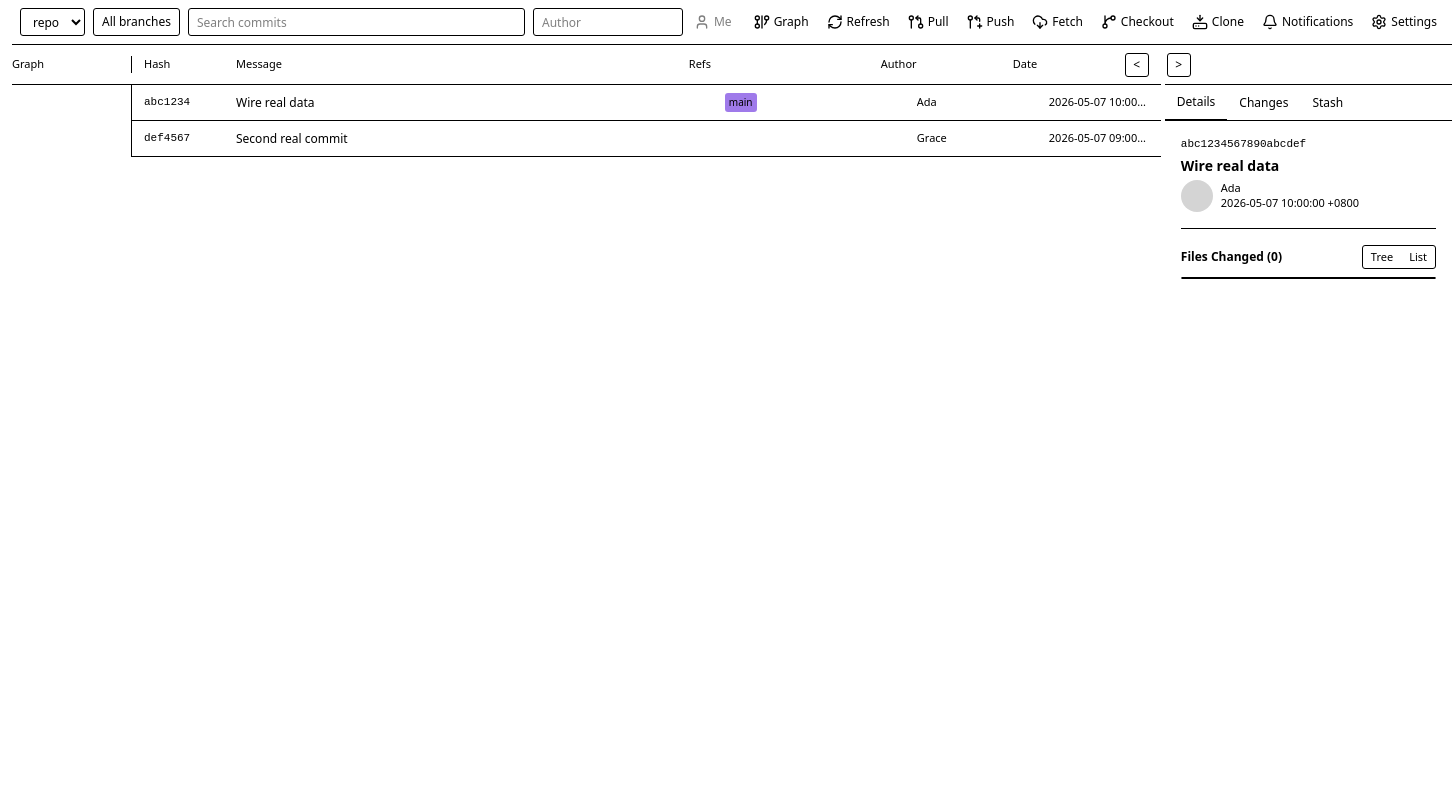
Test case: App › keeps stale commit message generation errors from replacing the current notification
Click the tab "Changes" at [1264, 102], box [1227,85,1300,120]
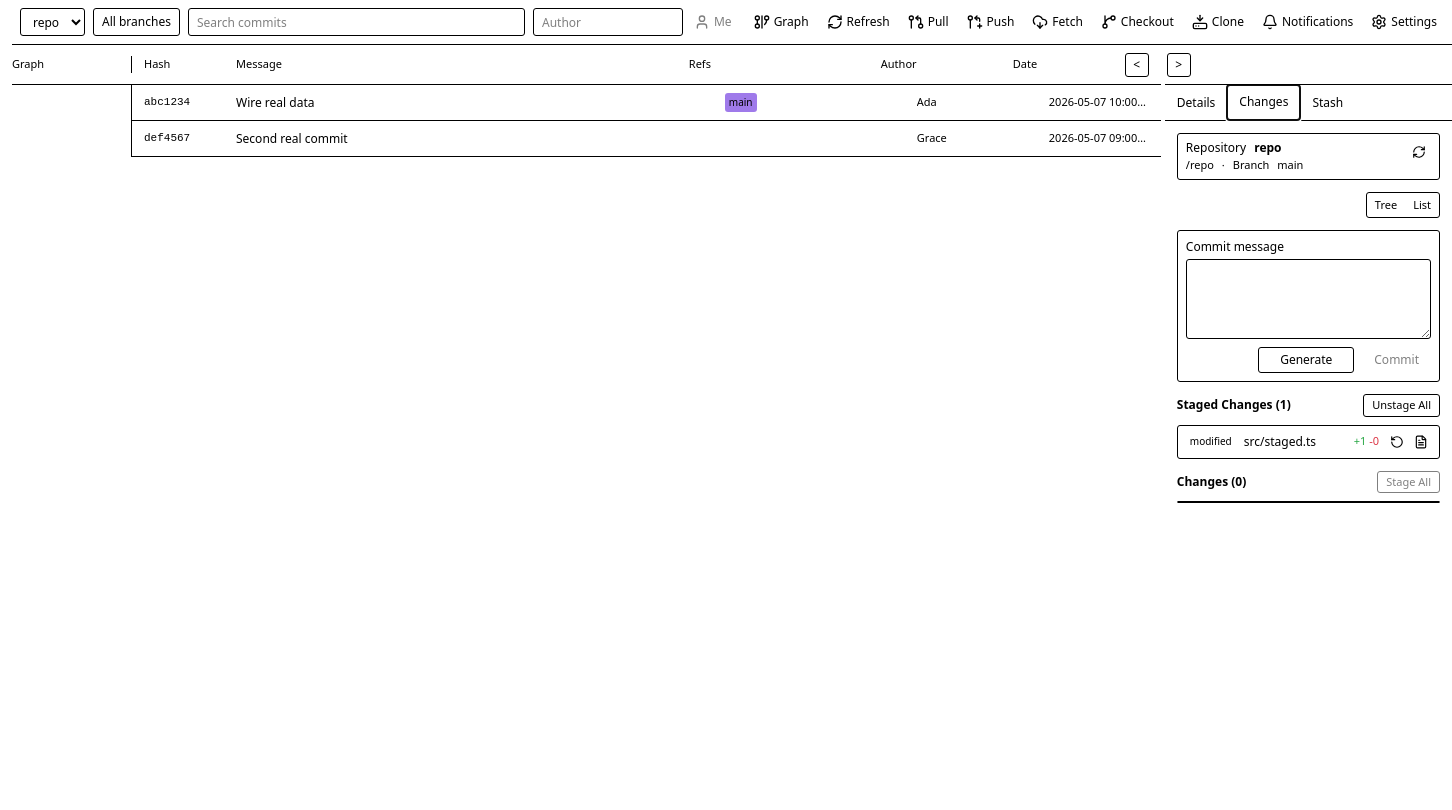
Click the button "Generate" at [1306, 360], box [1258,347,1354,373]
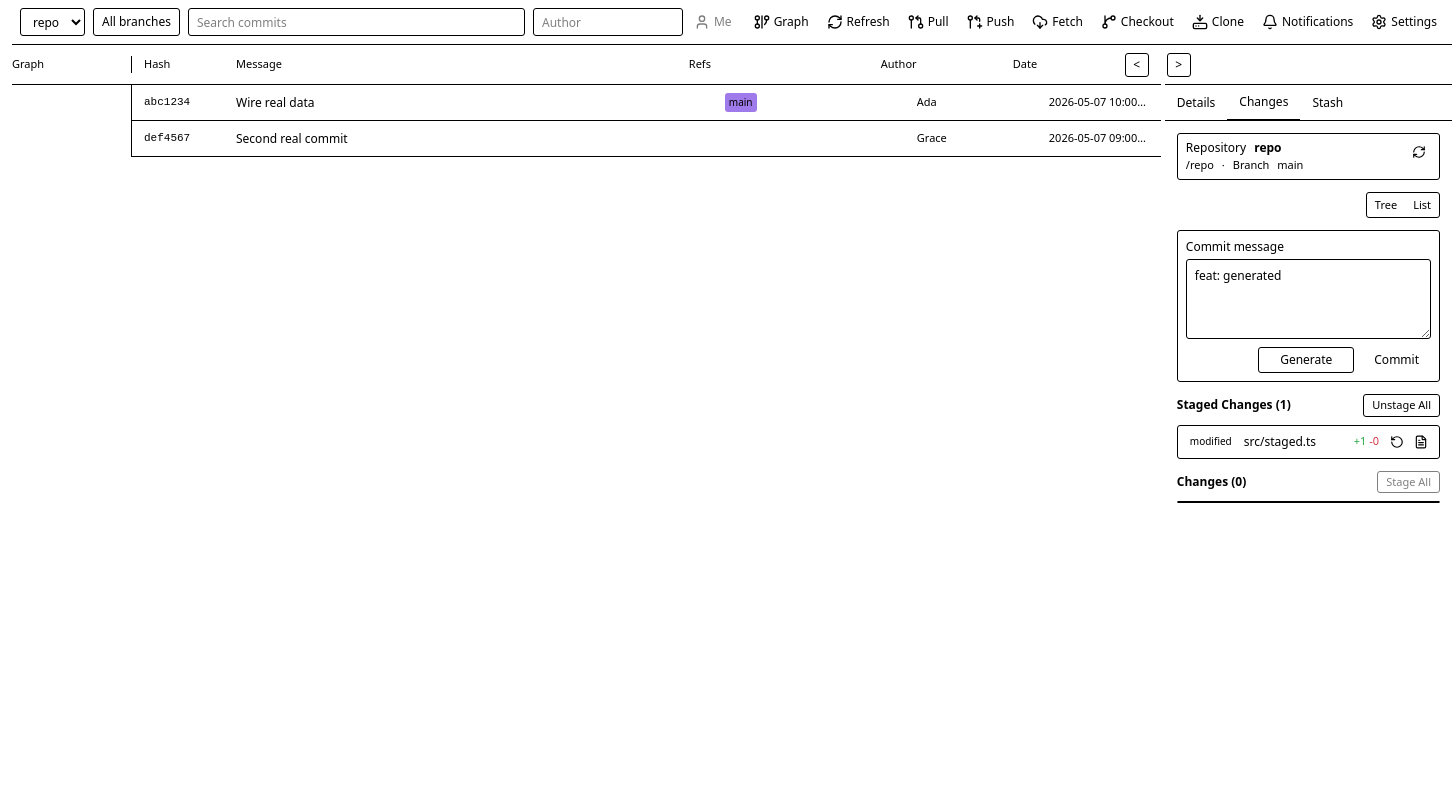
Click the button named "Unstage src/staged.ts" at [1397, 442], box [1387,432,1407,452]
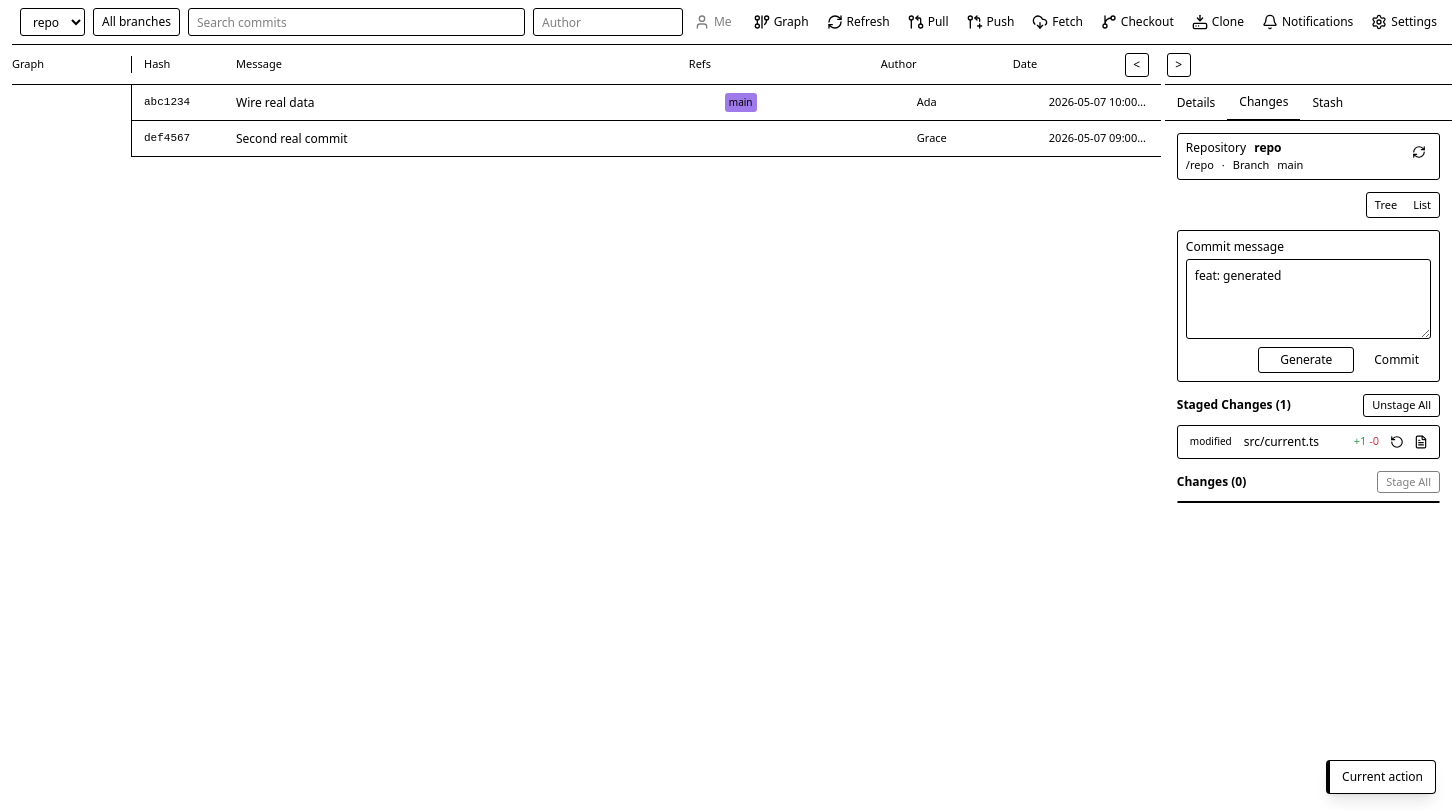
Expected: the text "Current action" is shown, [1326,760,1436,794]
